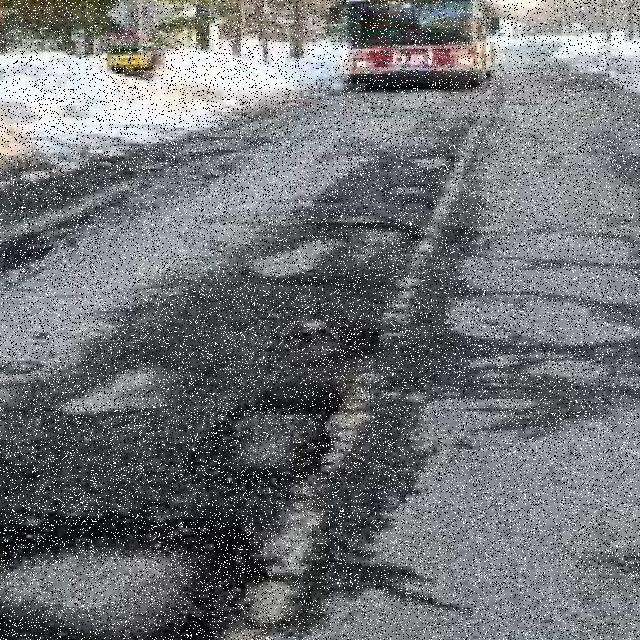pothole: (0, 408, 325, 636)
